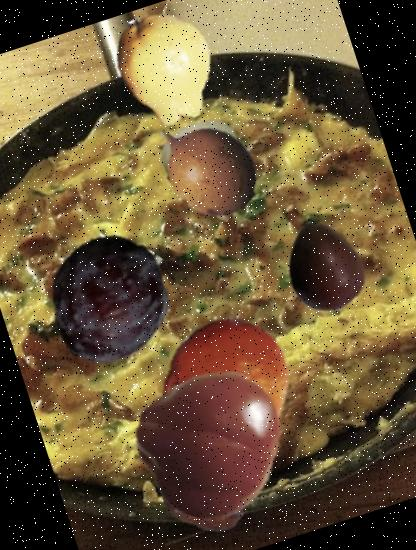Clementine: (133, 292, 319, 478)
Granadilla: (136, 95, 276, 236)
Mango: (266, 206, 382, 324)
Nut: (148, 447, 256, 550)
Pear: (148, 97, 258, 208)
Plum: (26, 217, 190, 381)
Quince: (94, 0, 240, 139)
Tomato: (112, 347, 301, 536)
